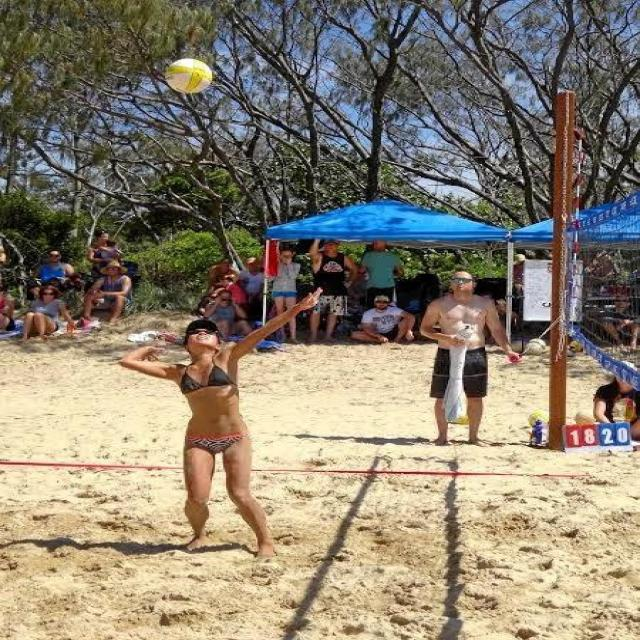body: (112, 284, 326, 564), (417, 269, 528, 449), (304, 236, 360, 344), (71, 258, 134, 331), (16, 286, 78, 344), (349, 294, 418, 346), (267, 246, 303, 345), (358, 239, 406, 312), (590, 372, 640, 440), (203, 288, 254, 342), (598, 294, 638, 354), (85, 228, 124, 285), (30, 249, 77, 286), (236, 255, 266, 300), (512, 253, 528, 333), (203, 264, 242, 296), (90, 237, 125, 270), (0, 280, 17, 332)
